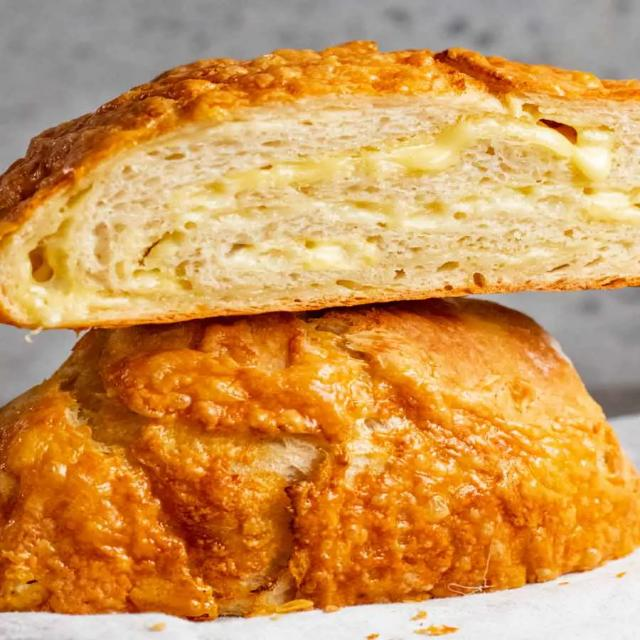Bread: (7, 2, 640, 324)
